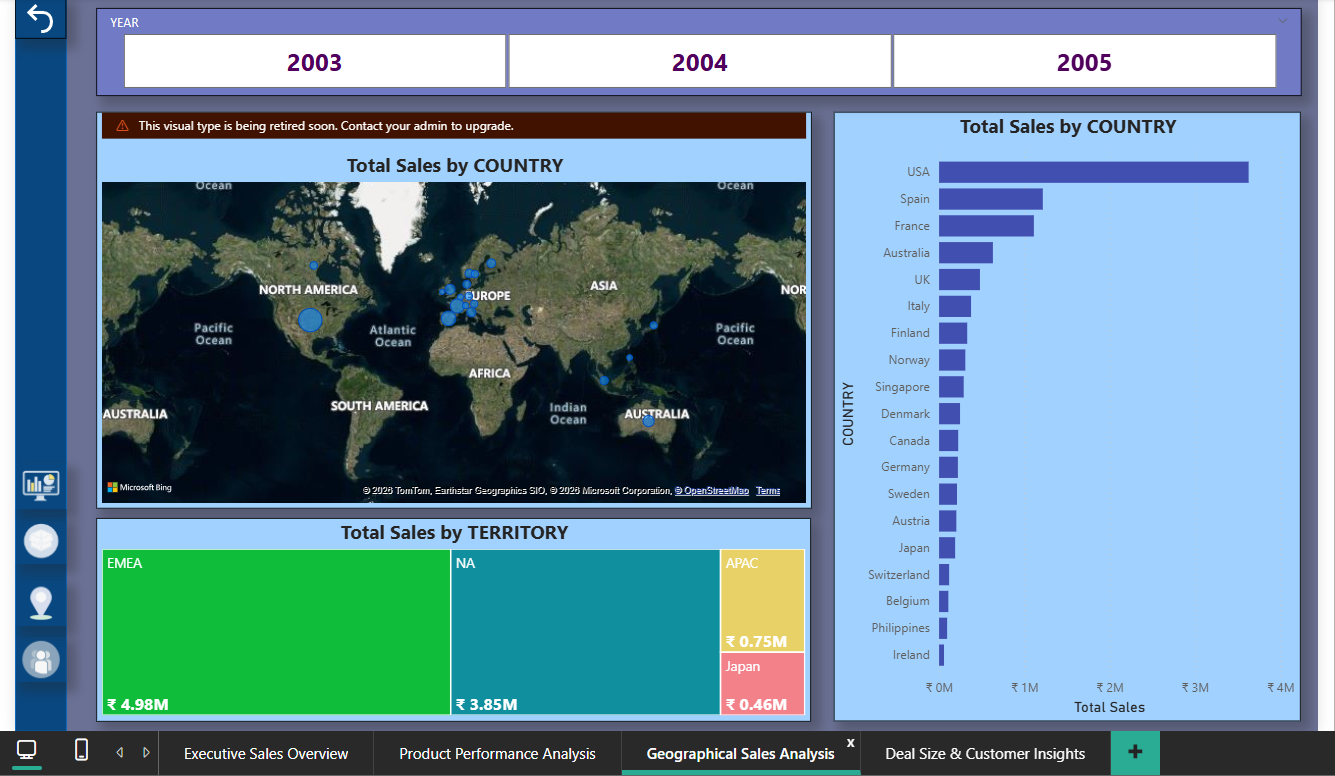

What the dashboard file says about the page in this screenshot:
{"tool":"powerbi","page":{"name":"Geographical Sales Analysis","canvas":[1280,720],"ordinal":2},"visuals":[{"type":"map","fields":{"Category":["Sales Data.COUNTRY"],"Size":["Table Measures.Total Sales"]},"box":[79.4,111.1,702.6,389.5],"z":0},{"type":"barChart","fields":{"Category":["Sales Data.COUNTRY"],"Y":["Table Measures.Total Sales"]},"box":[803.6,111.1,458.8,598.7],"z":1000},{"type":"treemap","fields":{"Values":["Table Measures.Total Sales"],"Group":["Sales Data.TERRITORY"]},"box":[79.8,510.4,701.8,200],"z":2000},{"type":"shape","box":[0,0,51,720.3],"z":3000},{"type":"actionButton","box":[0,456.5,51,44.8],"z":4000},{"type":"actionButton","box":[0,510.7,50.5,44.7],"z":5000},{"type":"actionButton","box":[0,571.3,50.5,44.7],"z":6000},{"type":"actionButton","box":[0,627.6,50.5,44.7],"z":7000},{"type":"slicer","fields":{"Values":["Sales Data.YEAR_ID"]},"box":[79.4,10.1,1183.1,86.6],"z":8000},{"type":"actionButton","box":[0,0,50.5,40.4],"z":9000}]}

Visuals, with their boxes on the page's 1280x720 design canvas (x1, y1, x2, y2). These are canvas units, not pixel positions in the 1335x776 screenshot, which may show the page scaled, cropped or inside an application window:
map - Sales Data.COUNTRY x Table Measures.Total Sales: [79, 111, 782, 501]
barChart - Sales Data.COUNTRY x Table Measures.Total Sales: [804, 111, 1262, 710]
treemap - Table Measures.Total Sales x Sales Data.TERRITORY: [80, 510, 782, 710]
shape: [0, 0, 51, 720]
actionButton: [0, 456, 51, 501]
actionButton: [0, 511, 50, 555]
actionButton: [0, 571, 50, 616]
actionButton: [0, 628, 50, 672]
slicer - Sales Data.YEAR_ID: [79, 10, 1262, 97]
actionButton: [0, 0, 50, 40]
